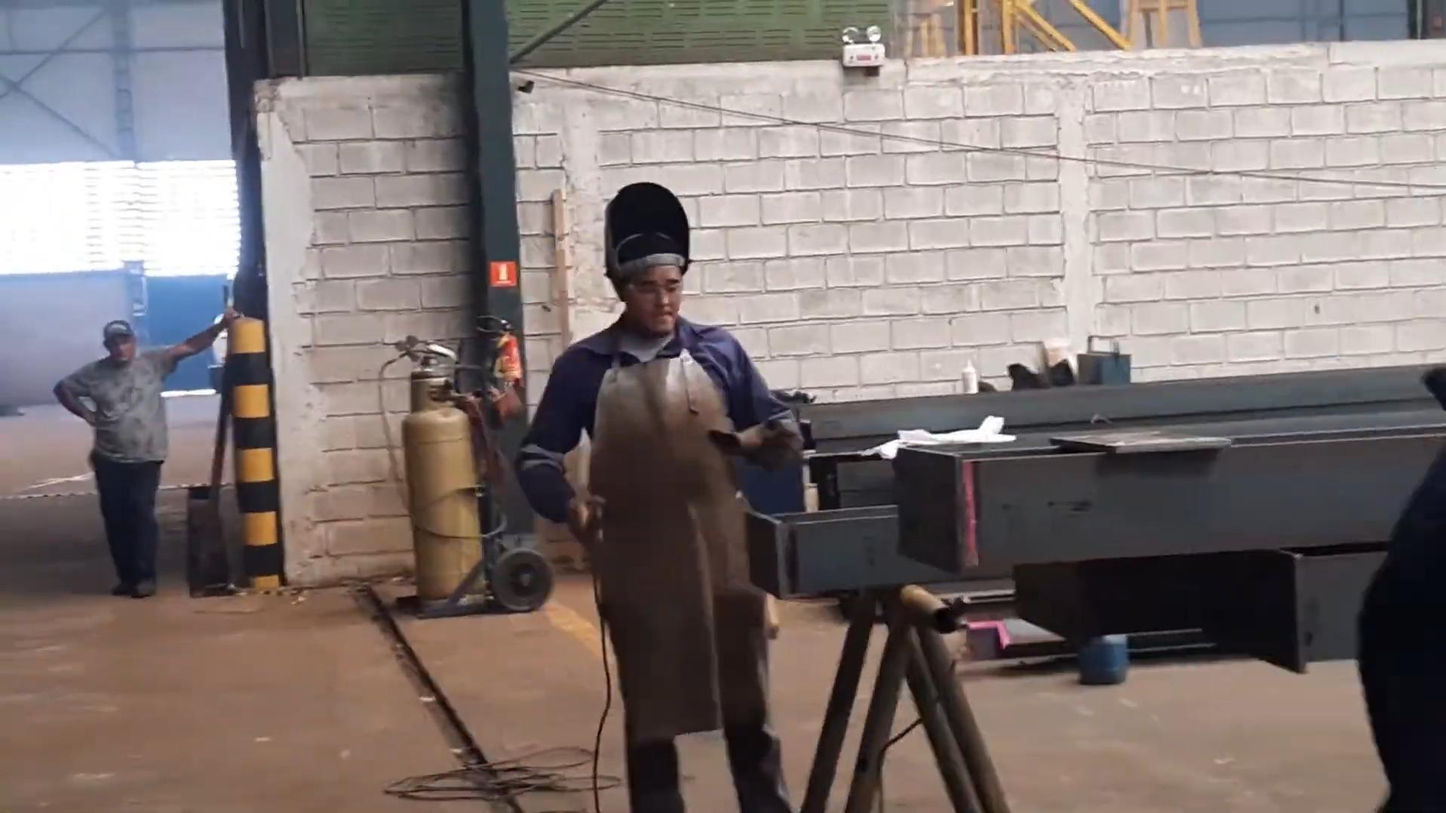boots: (134, 581, 156, 598), (110, 581, 131, 596)
gloves: (732, 416, 832, 471), (546, 489, 626, 552)
goggles: (612, 278, 706, 303)
vest: (534, 334, 803, 813)
